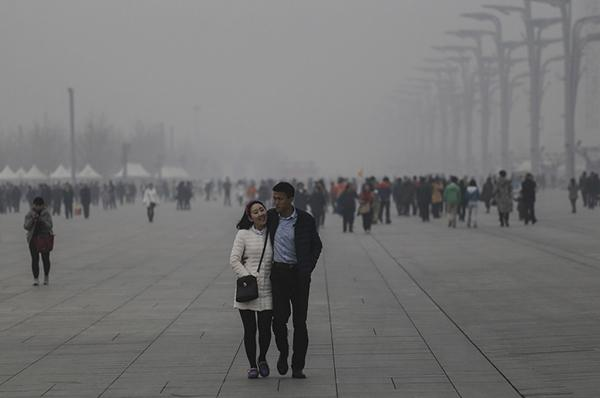person: (260, 180, 323, 378), (229, 199, 277, 378), (23, 197, 55, 286), (493, 170, 514, 228), (338, 182, 359, 233), (357, 183, 377, 234), (307, 185, 327, 235), (521, 172, 538, 225), (444, 176, 461, 228), (375, 175, 393, 224), (464, 178, 481, 229), (293, 182, 310, 229), (416, 176, 432, 223), (142, 182, 160, 222), (430, 177, 444, 218), (566, 178, 580, 214), (79, 182, 91, 219), (482, 177, 494, 214), (587, 170, 598, 210), (63, 181, 74, 220), (221, 175, 233, 207), (256, 179, 269, 206), (175, 180, 186, 211), (10, 185, 22, 213), (580, 170, 589, 207), (183, 180, 194, 210), (25, 186, 37, 212), (236, 179, 246, 206), (247, 180, 257, 206)
